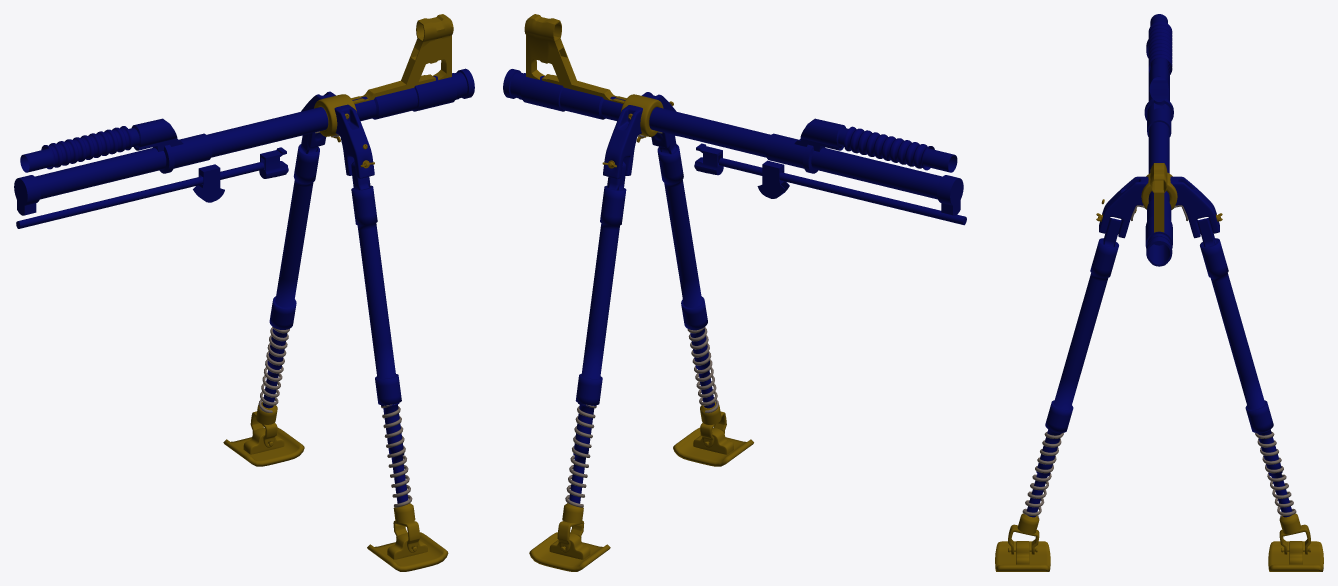
Rendered from barrel_01.fbx.
3 views of the same model, side by side, from view 1: azimuth 30°, elevation 25°; view 2: azimuth 150°, elevation 25°; view 3: azimuth 270°, elevation 25° (orthographic). The views are drawn at different scales.
Visible parts, largest first — view 1: Plane.043; view 2: Plane.043; view 3: Plane.043.
Boxes of the visible parts, x1,y1,x2,y2 form: Plane.043: (14, 14, 474, 571); Plane.043: (503, 14, 966, 571); Plane.043: (995, 14, 1323, 571).
Size of the model in its own units: 102 by 99.62 by 67.43.
